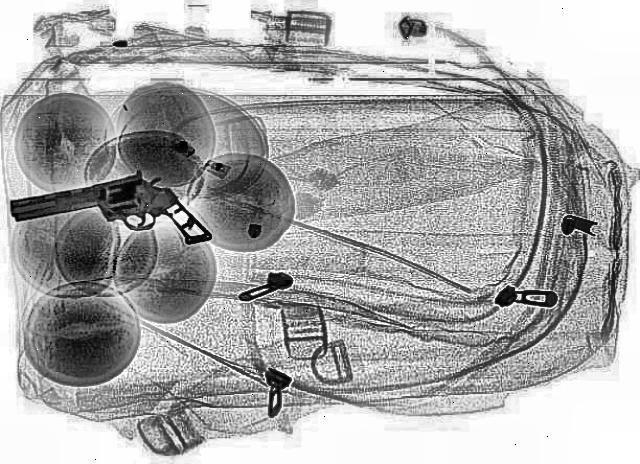Gun: (4, 168, 212, 274)
